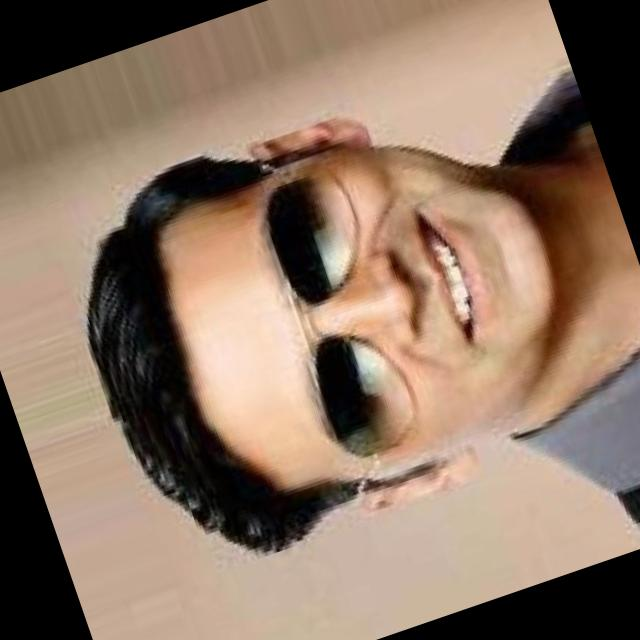bareface: (128, 86, 618, 583)
